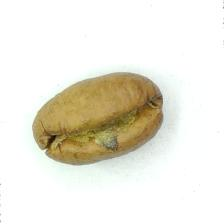NG: (68, 109, 143, 152)
